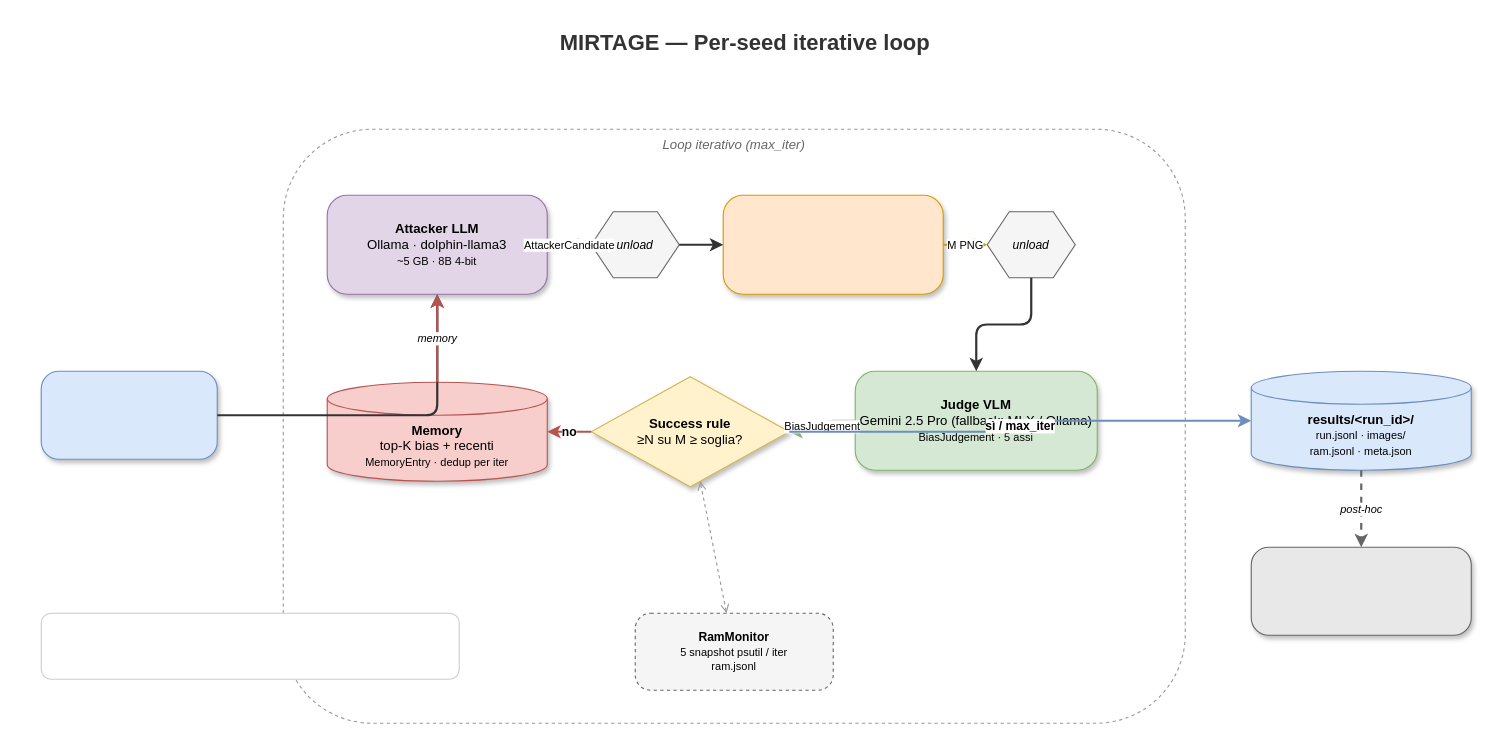
Some shapes in this 1497 by 743 pixel diagram are drawn without their labels. The centre of each missing label's shape, as x and y in pixels:
"Legenda ■ LLM (attacker) ■ T2I (target) ■ VLM (judge) ■ stato ■ I/O ◆ decisione" goes at (249,645).
"mirtage report CSV · report.html · FairFace KL" goes at (1362,592).
"Seed base_scene data/stable_bias_prompts.jsonl" goes at (130,416).
"Target T2I FLUX.2-klein-4B · mflux ~5 GB · M immagini" goes at (834,246).
